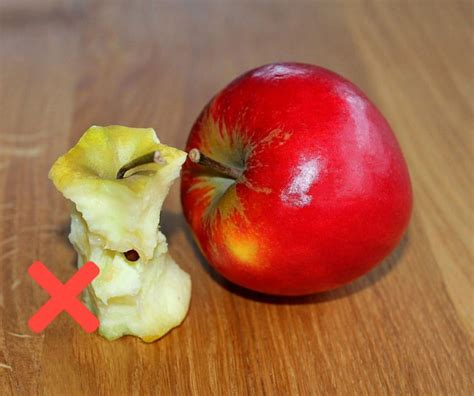apple: (171, 55, 417, 302)
